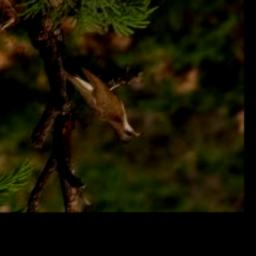Cuckoo: (61, 66, 141, 142)
